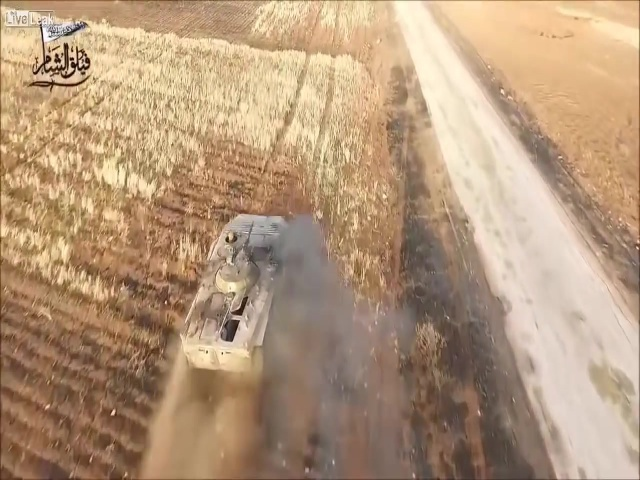vehicle: (181, 214, 294, 371)
